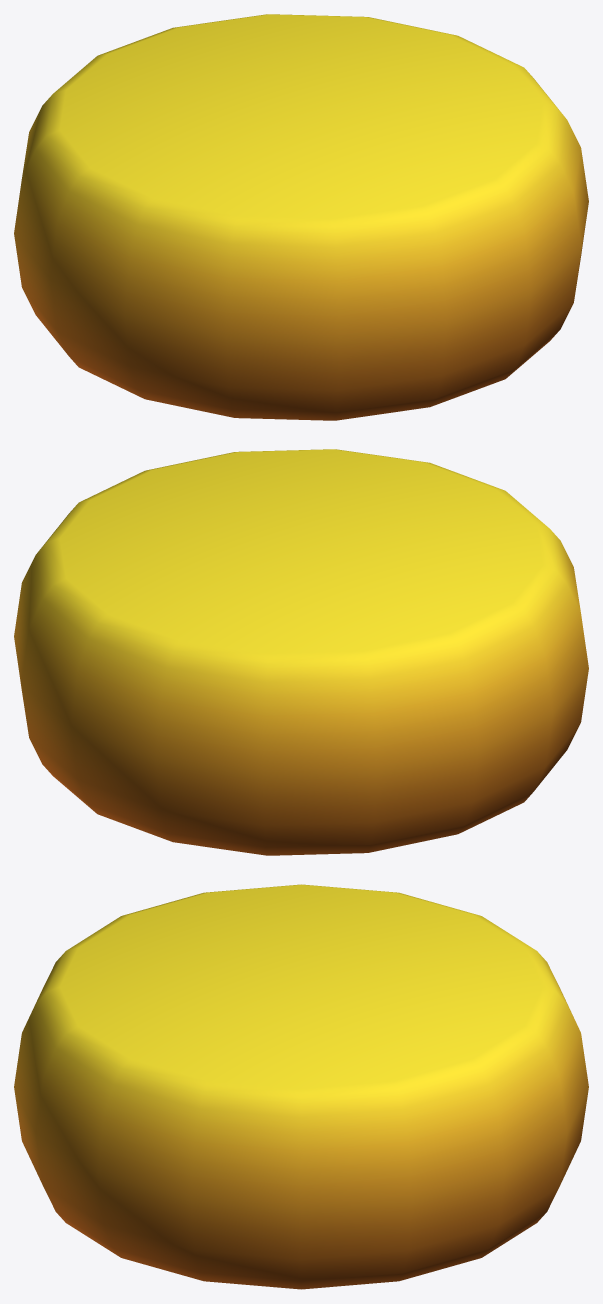
File: Hole_Cheese_01.glb
3 renders of one model, top to bottom at view 1: azimuth 30°, elevation 25°; view 2: azimuth 150°, elevation 25°; view 3: azimuth 270°, elevation 25°, orthographic.
Parts seen in each view (by area): view 1: Hole_Cheese_01; view 2: Hole_Cheese_01; view 3: Hole_Cheese_01.
Part boxes in pixels (bbox=[...]): Hole_Cheese_01: bbox=[14, 14, 588, 420]; Hole_Cheese_01: bbox=[14, 449, 588, 855]; Hole_Cheese_01: bbox=[14, 884, 588, 1289].
Size of the model in its own units: 0.6932 by 0.2662 by 0.6932.
Materials: 1 (1 with a texture image).
